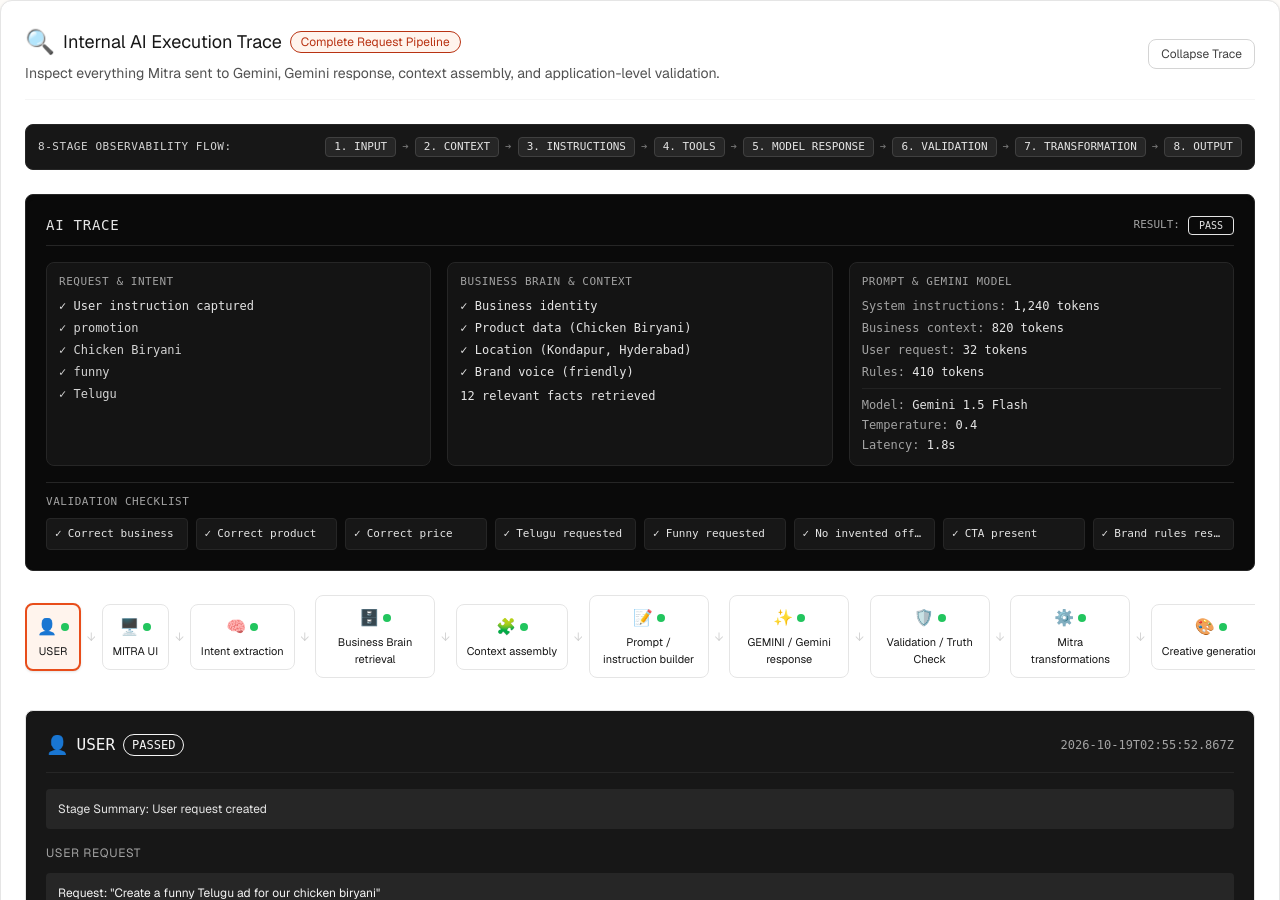
it: PipelineTraceInspector Component › allows clicking between stages and inspecting prompt/context details
# Click on Prompt / instruction builder stage
Click the button "📝 Prompt / instruction builder": (649, 637) [589, 595, 709, 678]
(page scrolled)
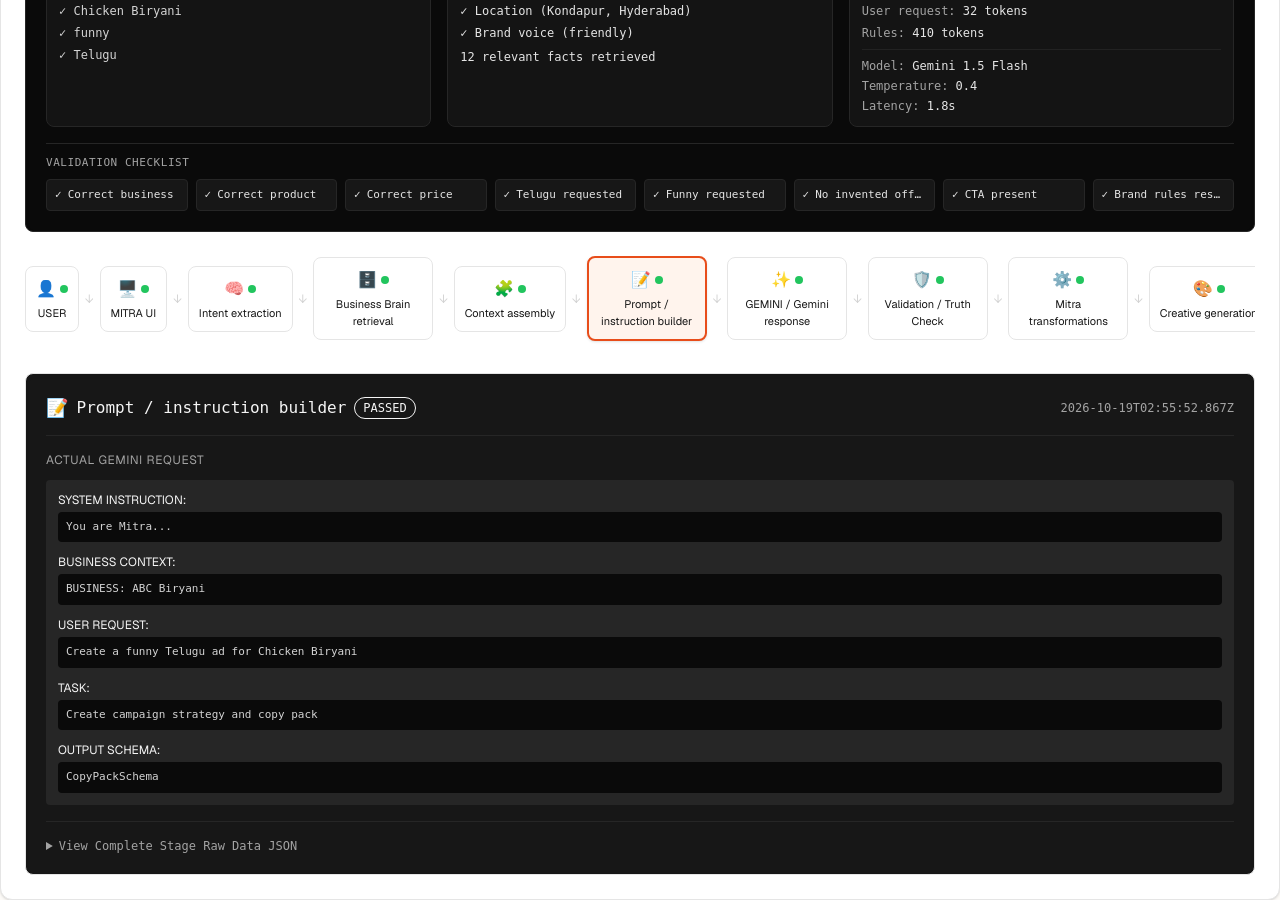
Check: the heading "Actual Gemini Request" is shown, box [46, 452, 204, 468]
Check: the text "SYSTEM INSTRUCTION:" is shown, box [58, 492, 186, 508]
Check: the text "BUSINESS CONTEXT:" is shown, box [58, 554, 176, 570]
